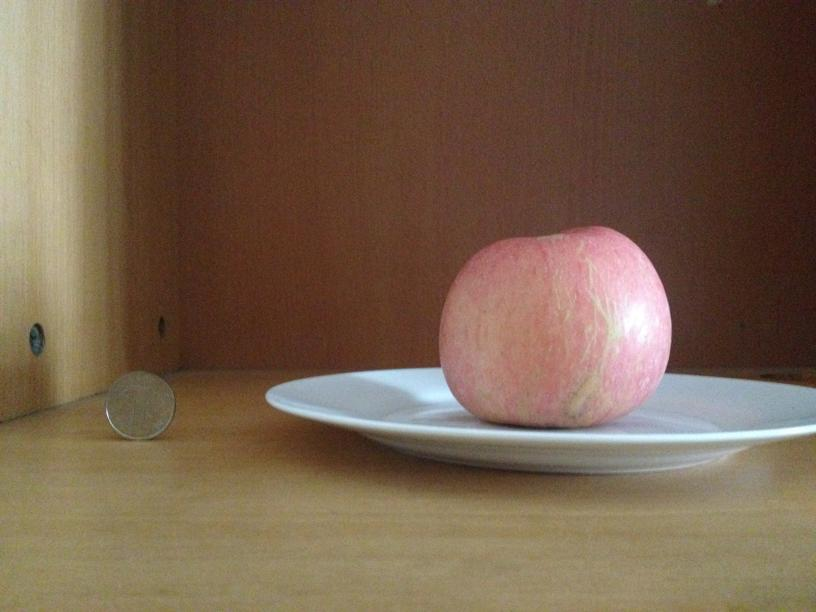apple: (441, 221, 674, 428)
coin: (101, 367, 177, 442)
